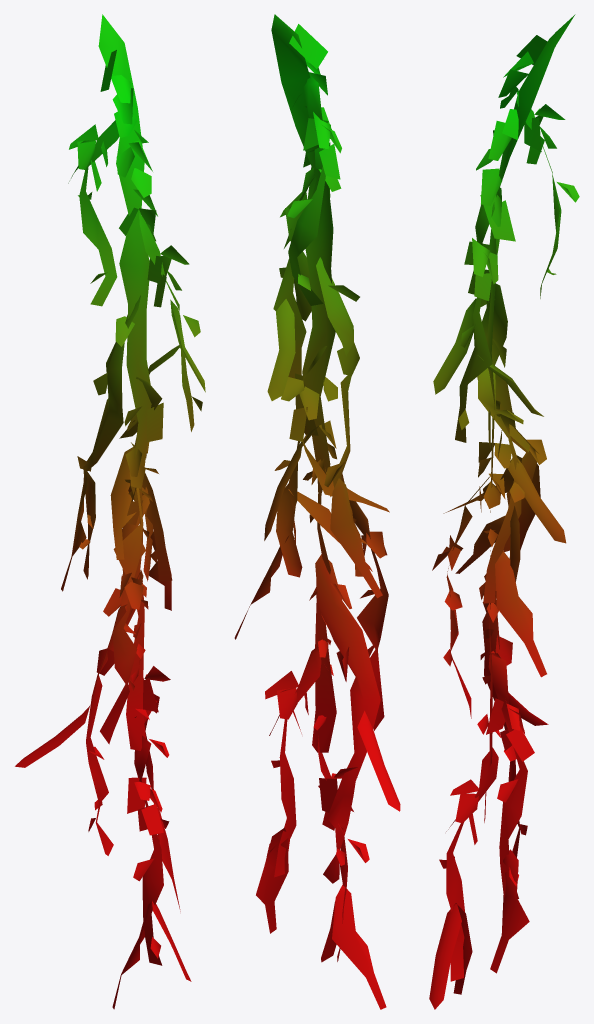
File: Var7_LOD5.fbx
The picture shows the model from 3 angles, left to right: view 1: azimuth 30°, elevation 25°; view 2: azimuth 150°, elevation 25°; view 3: azimuth 270°, elevation 25°; orthographic projection. The views are drawn at different scales.
Parts seen in each view (by area): view 1: _f5wl_Var7_LOD5; view 2: _f5wl_Var7_LOD5; view 3: _f5wl_Var7_LOD5.
Boxes of the visible parts, left/top/right/bottom form: _f5wl_Var7_LOD5: left=15, top=14, right=205, bottom=1009; _f5wl_Var7_LOD5: left=234, top=14, right=400, bottom=1009; _f5wl_Var7_LOD5: left=429, top=14, right=579, bottom=1009.
Bounding box in the file's own units: 40.83 × 238 × 32.32.
